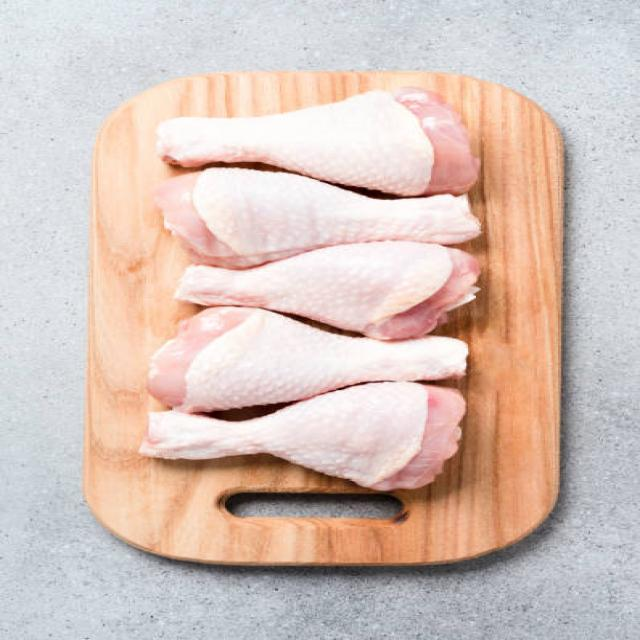Chicken: (141, 388, 471, 493), (135, 82, 474, 170), (135, 318, 487, 389), (151, 169, 482, 244), (157, 242, 498, 311)
